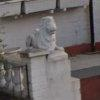Statue: (15, 13, 71, 68)
